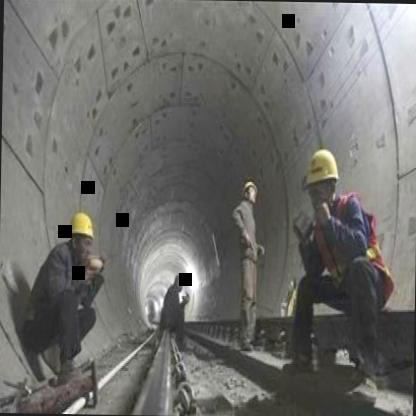helmet: (302, 143, 342, 214), (65, 206, 96, 264), (236, 176, 260, 209)
